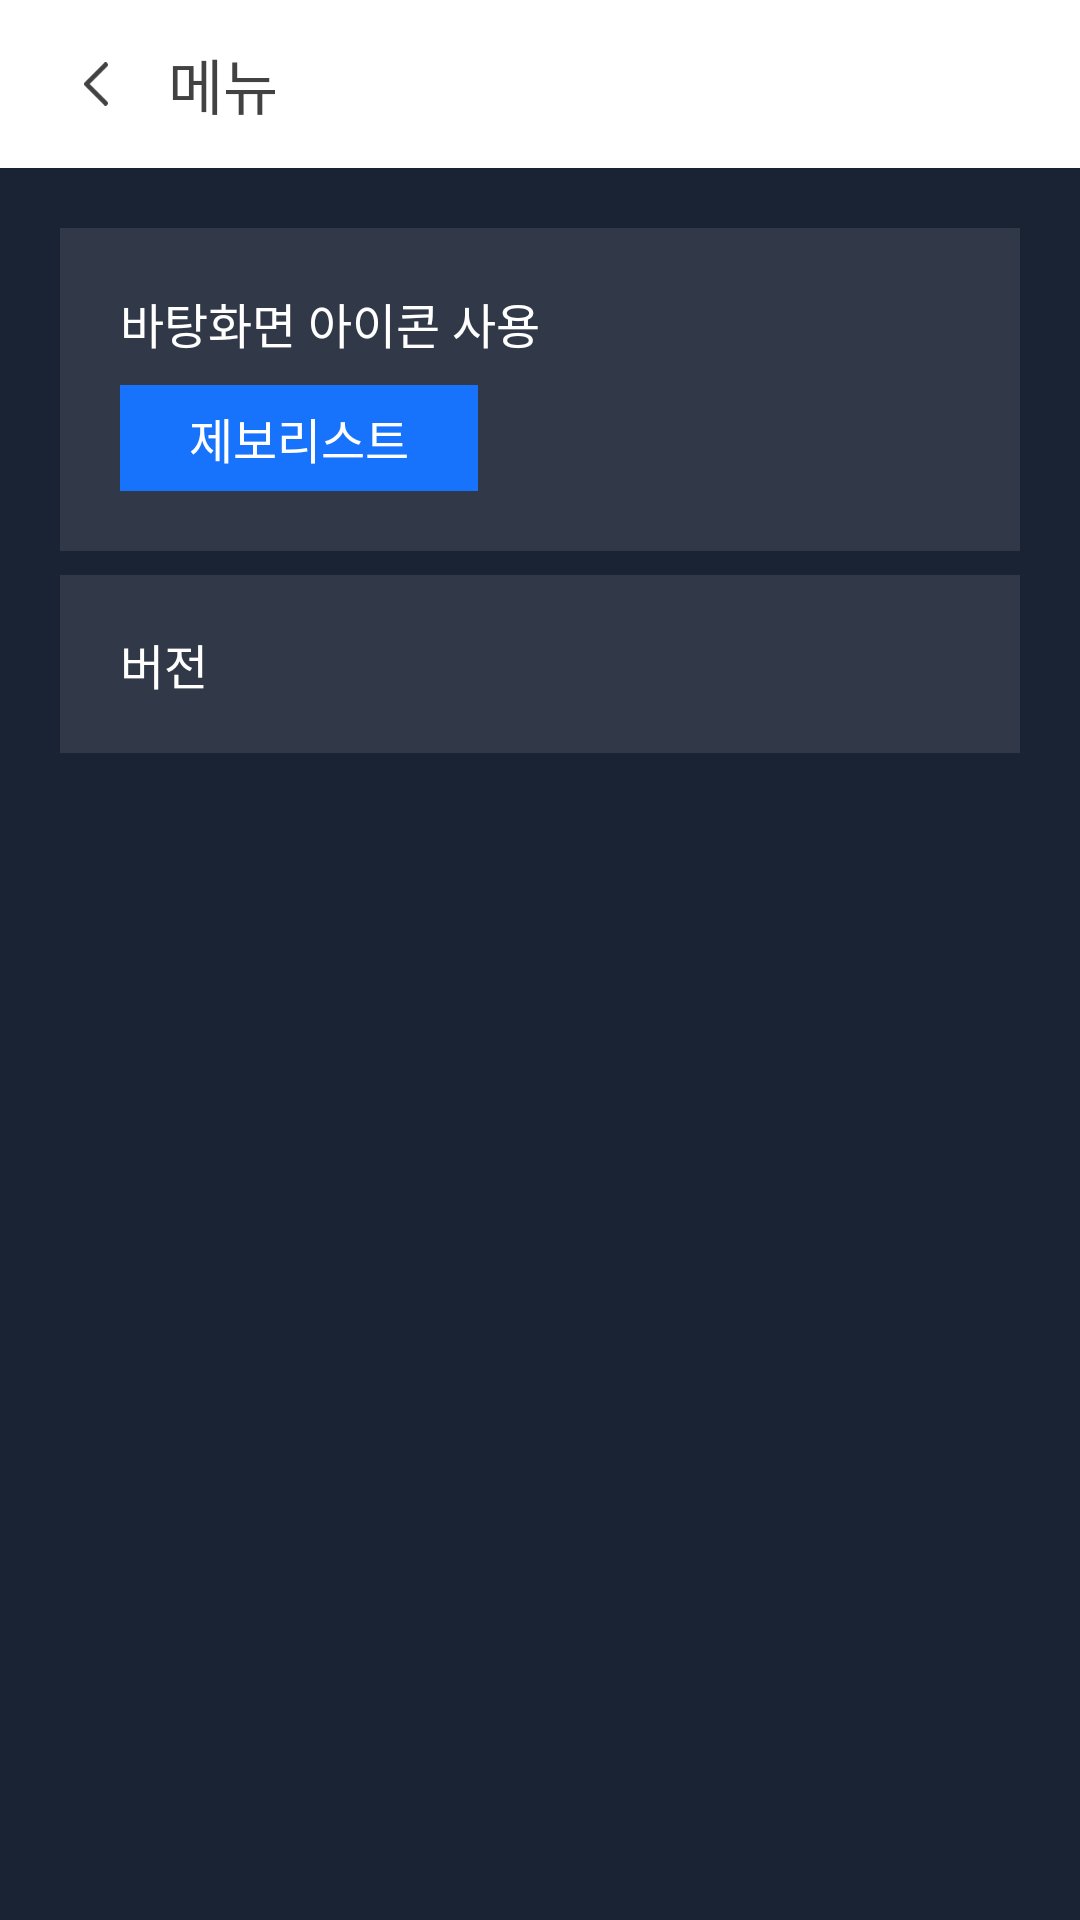

Icon bounding boxes for this 1080 x 1920 phone screenshot, format (x1=x1, y1=y1, x2=x2, y2=y2):
back: (x1=84, y1=62, x2=108, y2=106)
